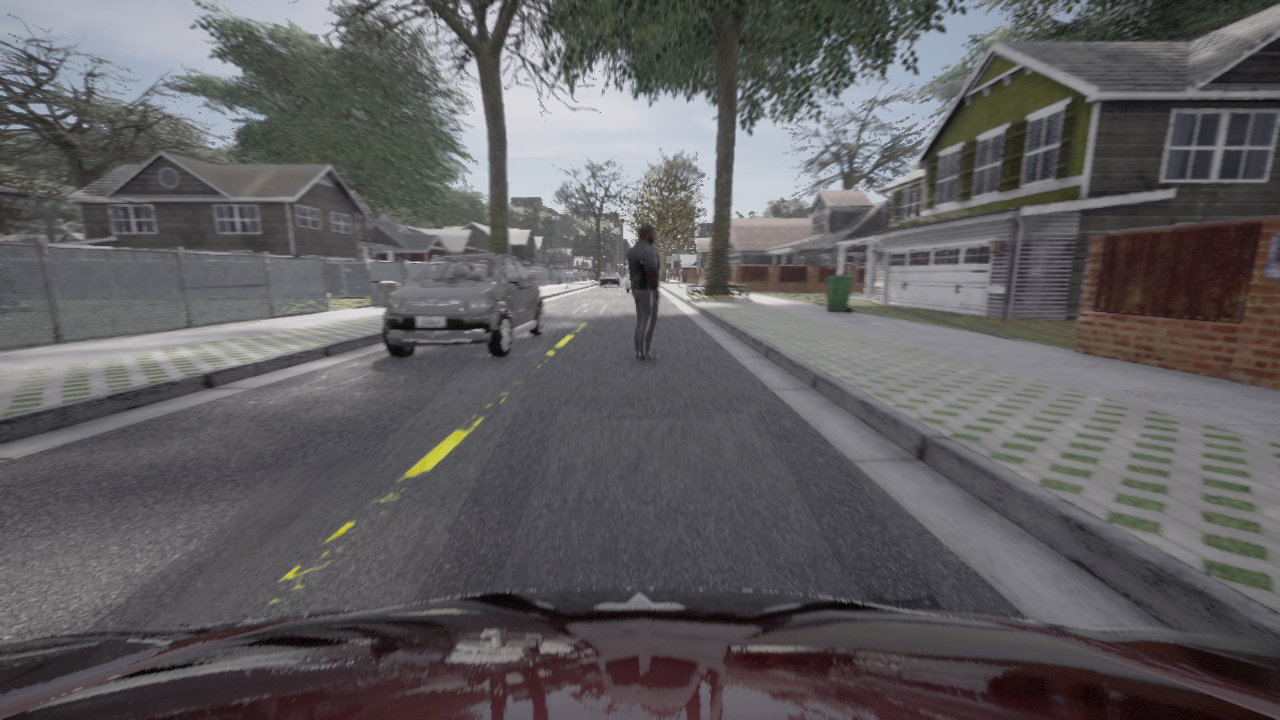cyclist: (0, 588, 1279, 719), (382, 253, 544, 357), (600, 273, 621, 286), (626, 274, 630, 292)
pedestrian: (627, 224, 660, 360)
